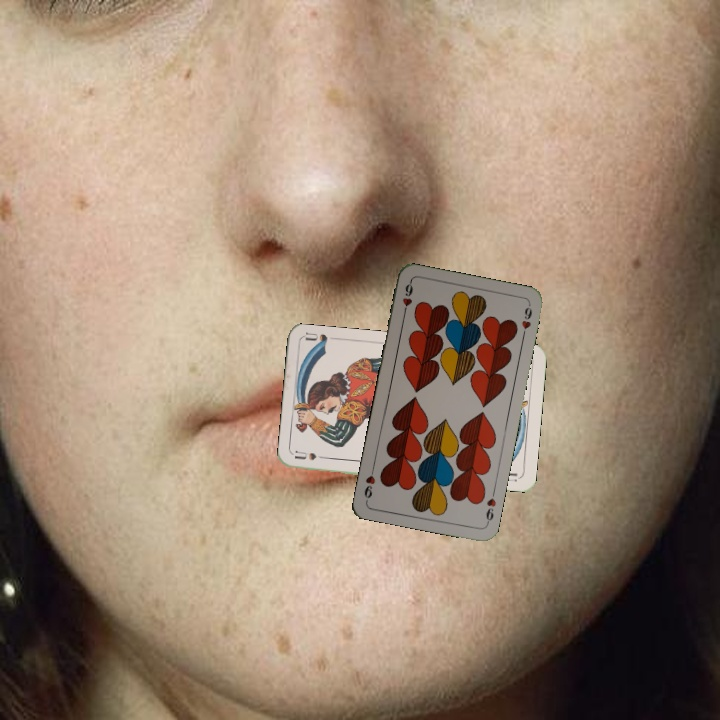H9: (399, 278, 415, 318), (482, 494, 499, 527)
SU: (291, 448, 332, 463)
